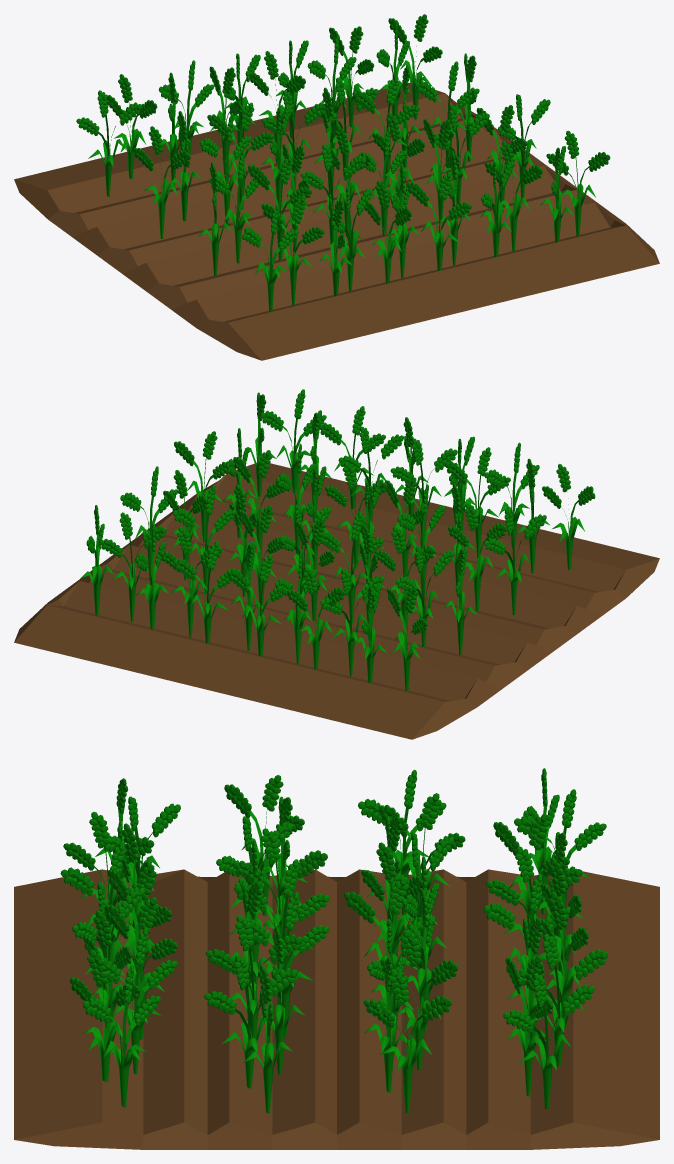
File: wheat-stage2-w-Dirt.glb
3 views of the same model, one above another, from view 1: azimuth 30°, elevation 25°; view 2: azimuth 150°, elevation 25°; view 3: azimuth 270°, elevation 25° (orthographic). The views are drawn at different scales.
Visible parts, largest first — view 1: Soil.008, Wheat_F2; view 2: Soil.008, Wheat_F2; view 3: Soil.008, Wheat_F2.
Part boxes in pixels (x1=…): Soil.008: x1=14, y1=82, x2=659, y2=360; Wheat_F2: x1=76, y1=14, x2=610, y2=311; Soil.008: x1=14, y1=463, x2=659, y2=739; Wheat_F2: x1=80, y1=389, x2=595, y2=690; Soil.008: x1=14, y1=869, x2=659, y2=1149; Wheat_F2: x1=60, y1=768, x2=608, y2=1113.
Bounding box in the file's own units: 2.5 × 0.6199 × 2.5.
Materials: 2 (1 with a texture image).
